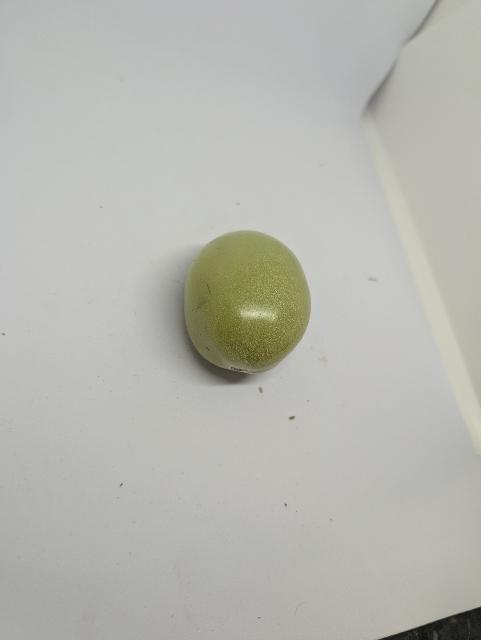green: (183, 227, 313, 376)
